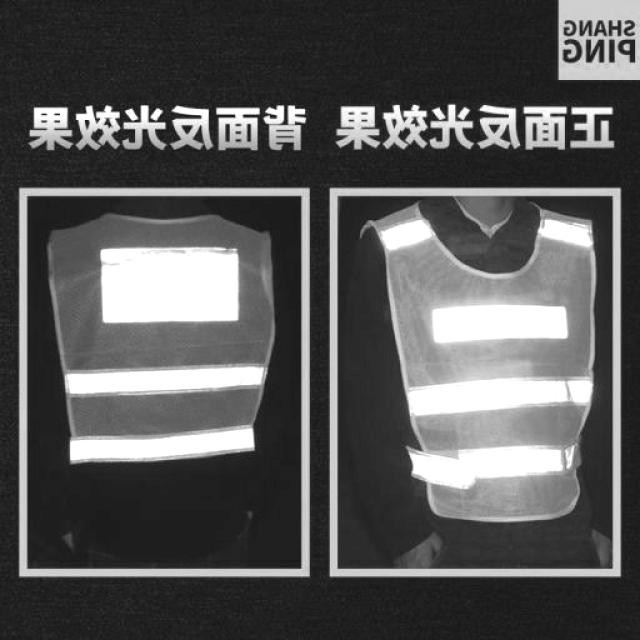vest: (362, 206, 592, 523), (49, 210, 281, 476)
